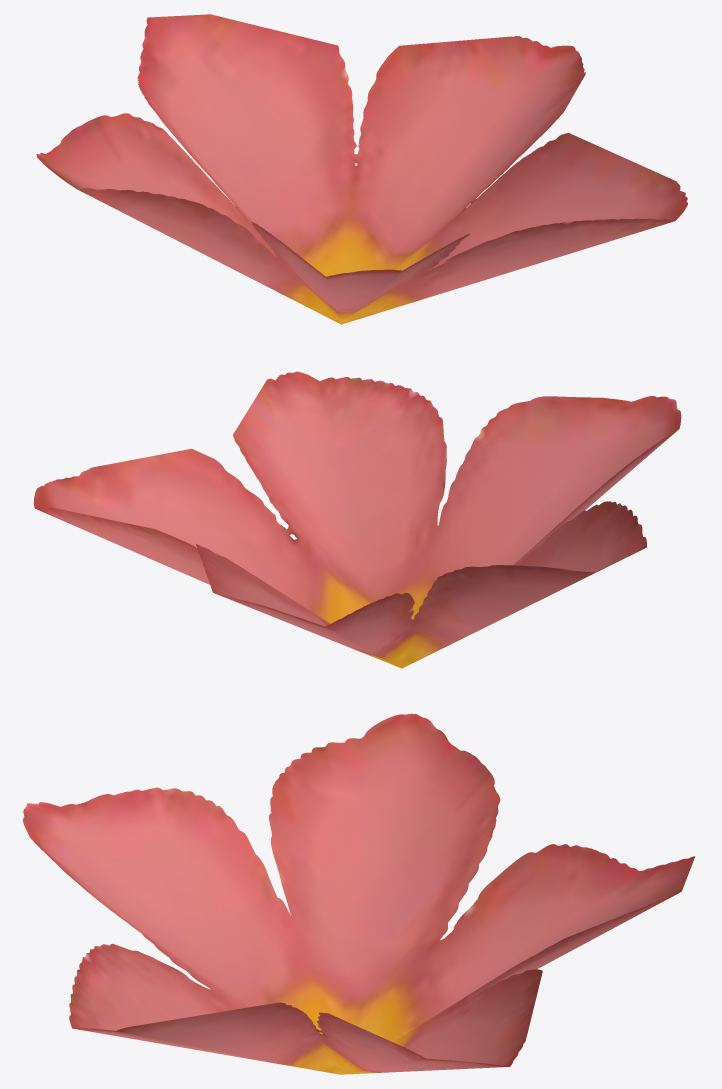
The model's file is sn_petal_5.glb.
3 views of the same model, one above another, from view 1: azimuth 30°, elevation 25°; view 2: azimuth 150°, elevation 25°; view 3: azimuth 270°, elevation 25° (orthographic). The views are drawn at different scales.
Visible parts, largest first — view 1: Petal_5; view 2: Petal_5; view 3: Petal_5.
Part boxes in pixels (<box>): Petal_5: <box>36,14,687,324</box>; Petal_5: <box>33,371,681,668</box>; Petal_5: <box>23,713,695,1074</box>.
Size of the model in its own units: 0.834 by 0.2887 by 0.7952.
Materials: 1 (1 with a texture image).
